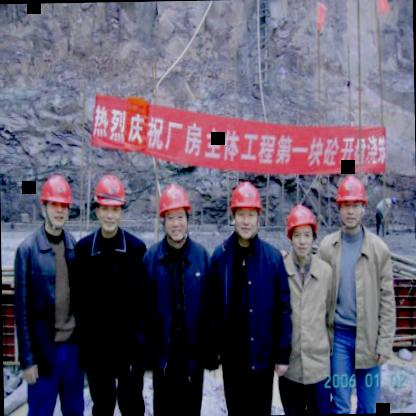helmet: (154, 179, 194, 246), (91, 168, 128, 233), (228, 178, 263, 241), (282, 202, 320, 260), (37, 172, 74, 231), (334, 175, 370, 229)
